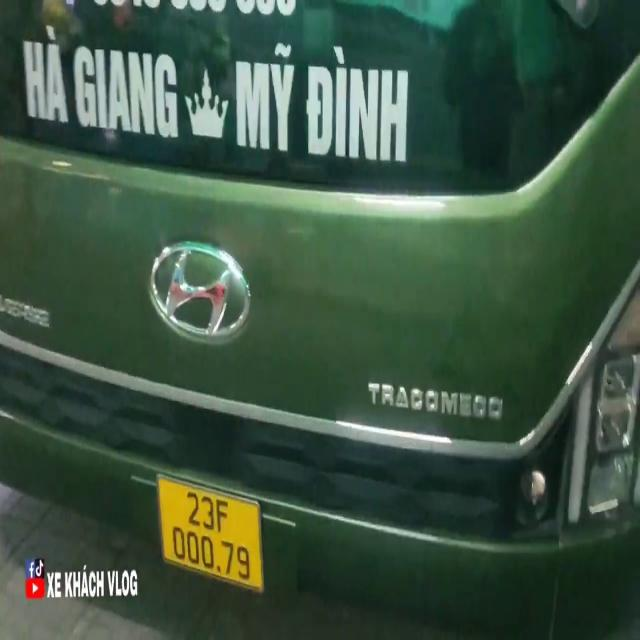bien_vang: (156, 472, 266, 598)
